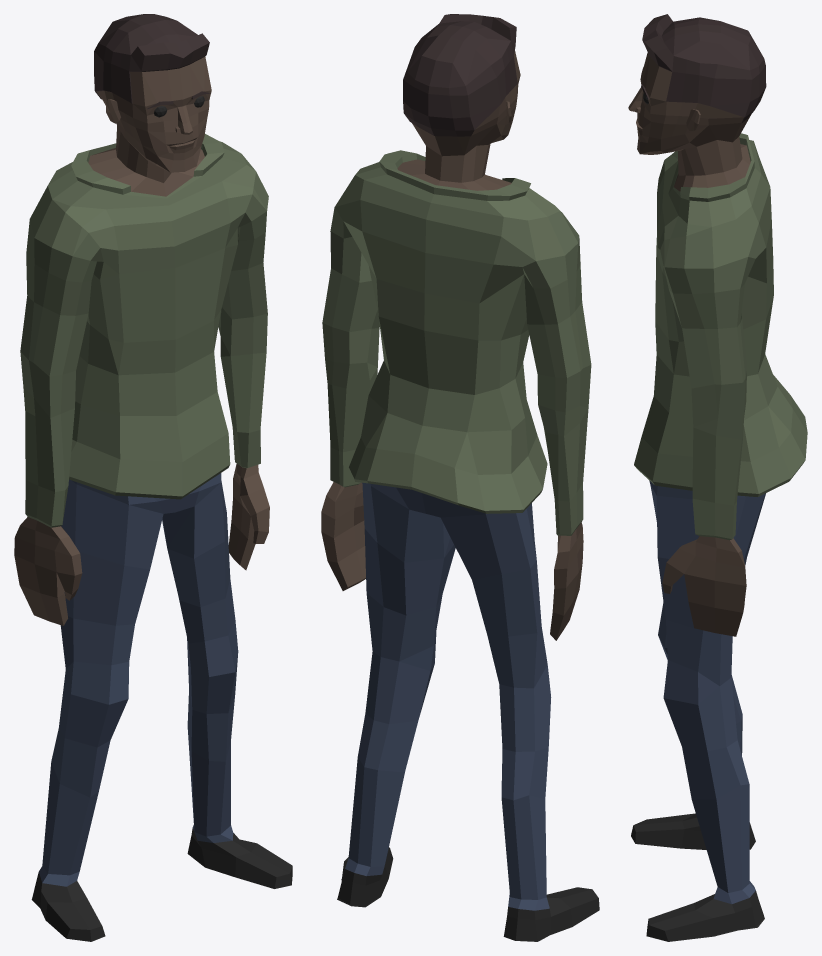
The model's file is rifleman.glb.
3 views of the same model, side by side, from view 1: azimuth 30°, elevation 25°; view 2: azimuth 150°, elevation 25°; view 3: azimuth 270°, elevation 25° (orthographic).
Visible parts, largest first — view 1: BaseHuman_Cylinder.002; view 2: BaseHuman_Cylinder.002; view 3: BaseHuman_Cylinder.002.
Part boxes in pixels (x1,y1,x2,y2): BaseHuman_Cylinder.002: (14, 14, 292, 941); BaseHuman_Cylinder.002: (321, 14, 599, 941); BaseHuman_Cylinder.002: (628, 14, 807, 941).
Size of the model in its own units: 1.42 by 4.81 by 0.9099.
